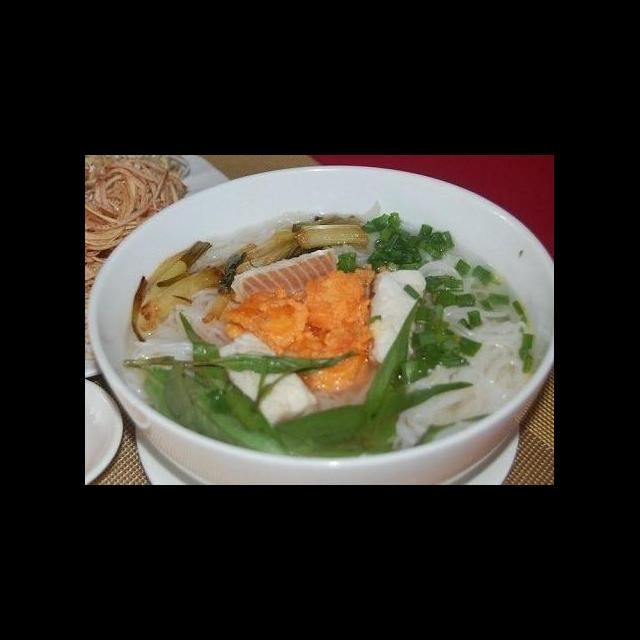bun: (414, 235, 550, 452), (114, 274, 234, 397)
bun ca: (106, 189, 547, 452)
ca: (214, 322, 324, 432), (222, 237, 344, 309), (364, 261, 432, 374)
rau ram: (120, 309, 288, 454), (273, 378, 477, 460), (352, 294, 428, 460), (192, 344, 362, 379)
tom: (284, 260, 382, 398), (216, 283, 314, 358)
